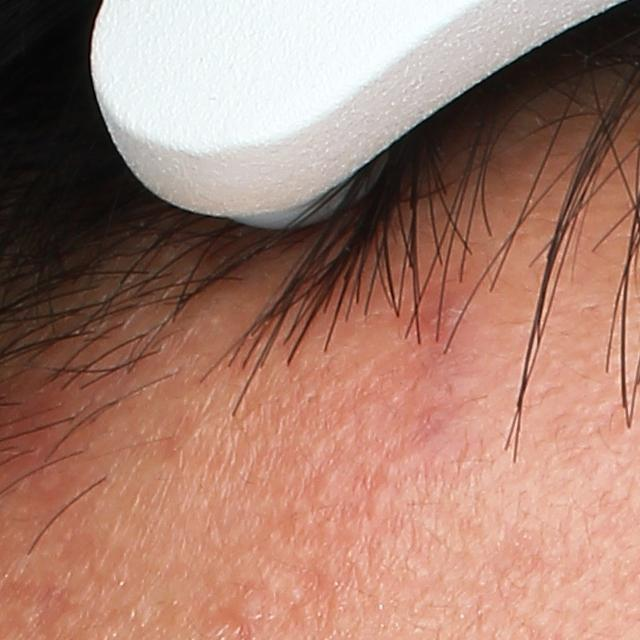comedo: (364, 487, 390, 520)
